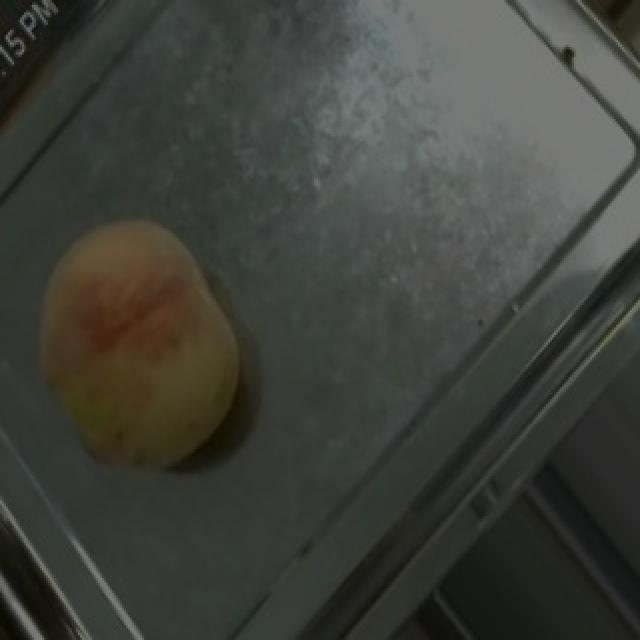Fruit: (0, 174, 298, 511)
